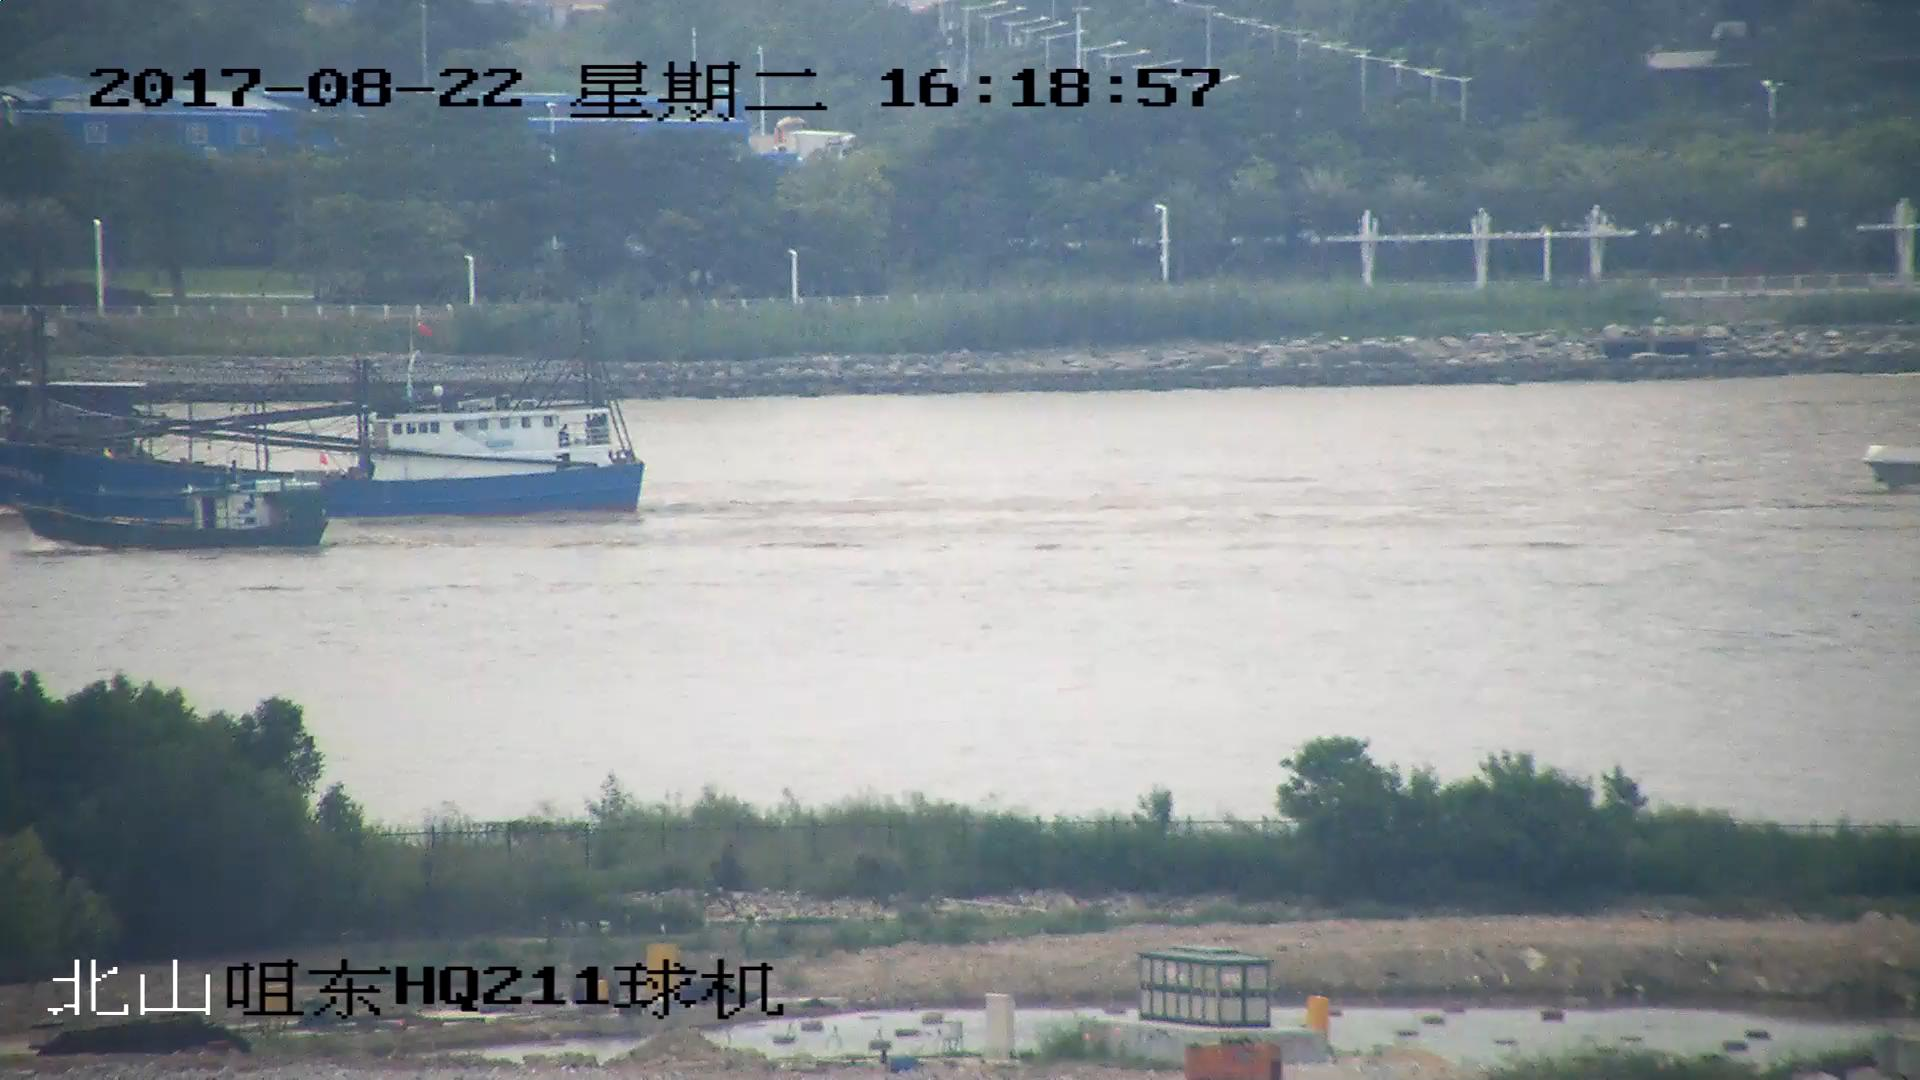fishing boat: (1, 297, 651, 522), (21, 476, 340, 556)
